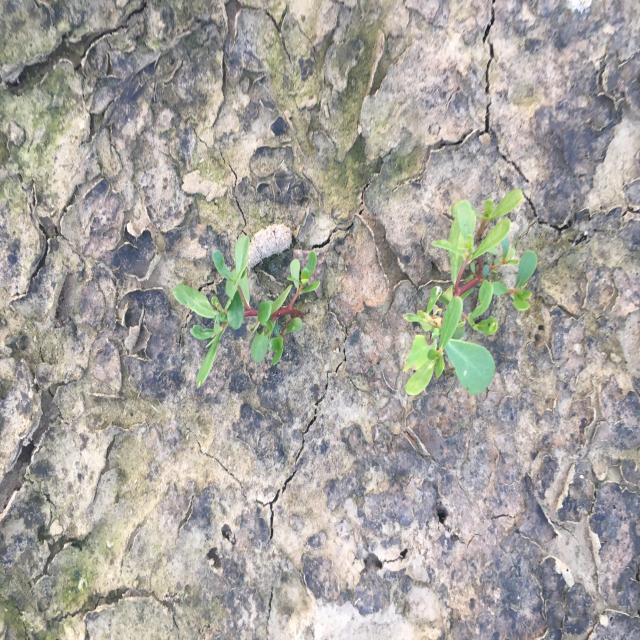Purslane: (401, 188, 538, 398), (172, 234, 322, 391)
